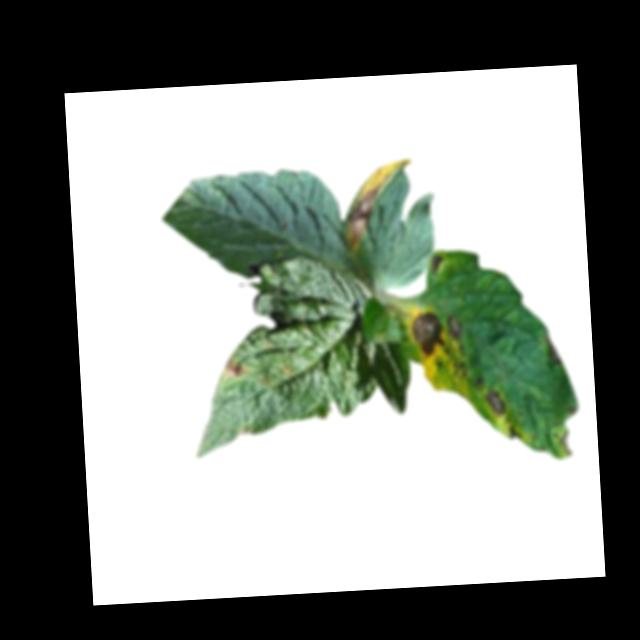Early_blight: (342, 154, 418, 252), (409, 310, 448, 359), (543, 331, 568, 372), (484, 388, 513, 418), (447, 317, 469, 347), (224, 355, 251, 378), (559, 425, 574, 457), (429, 252, 444, 274), (507, 424, 526, 441)
